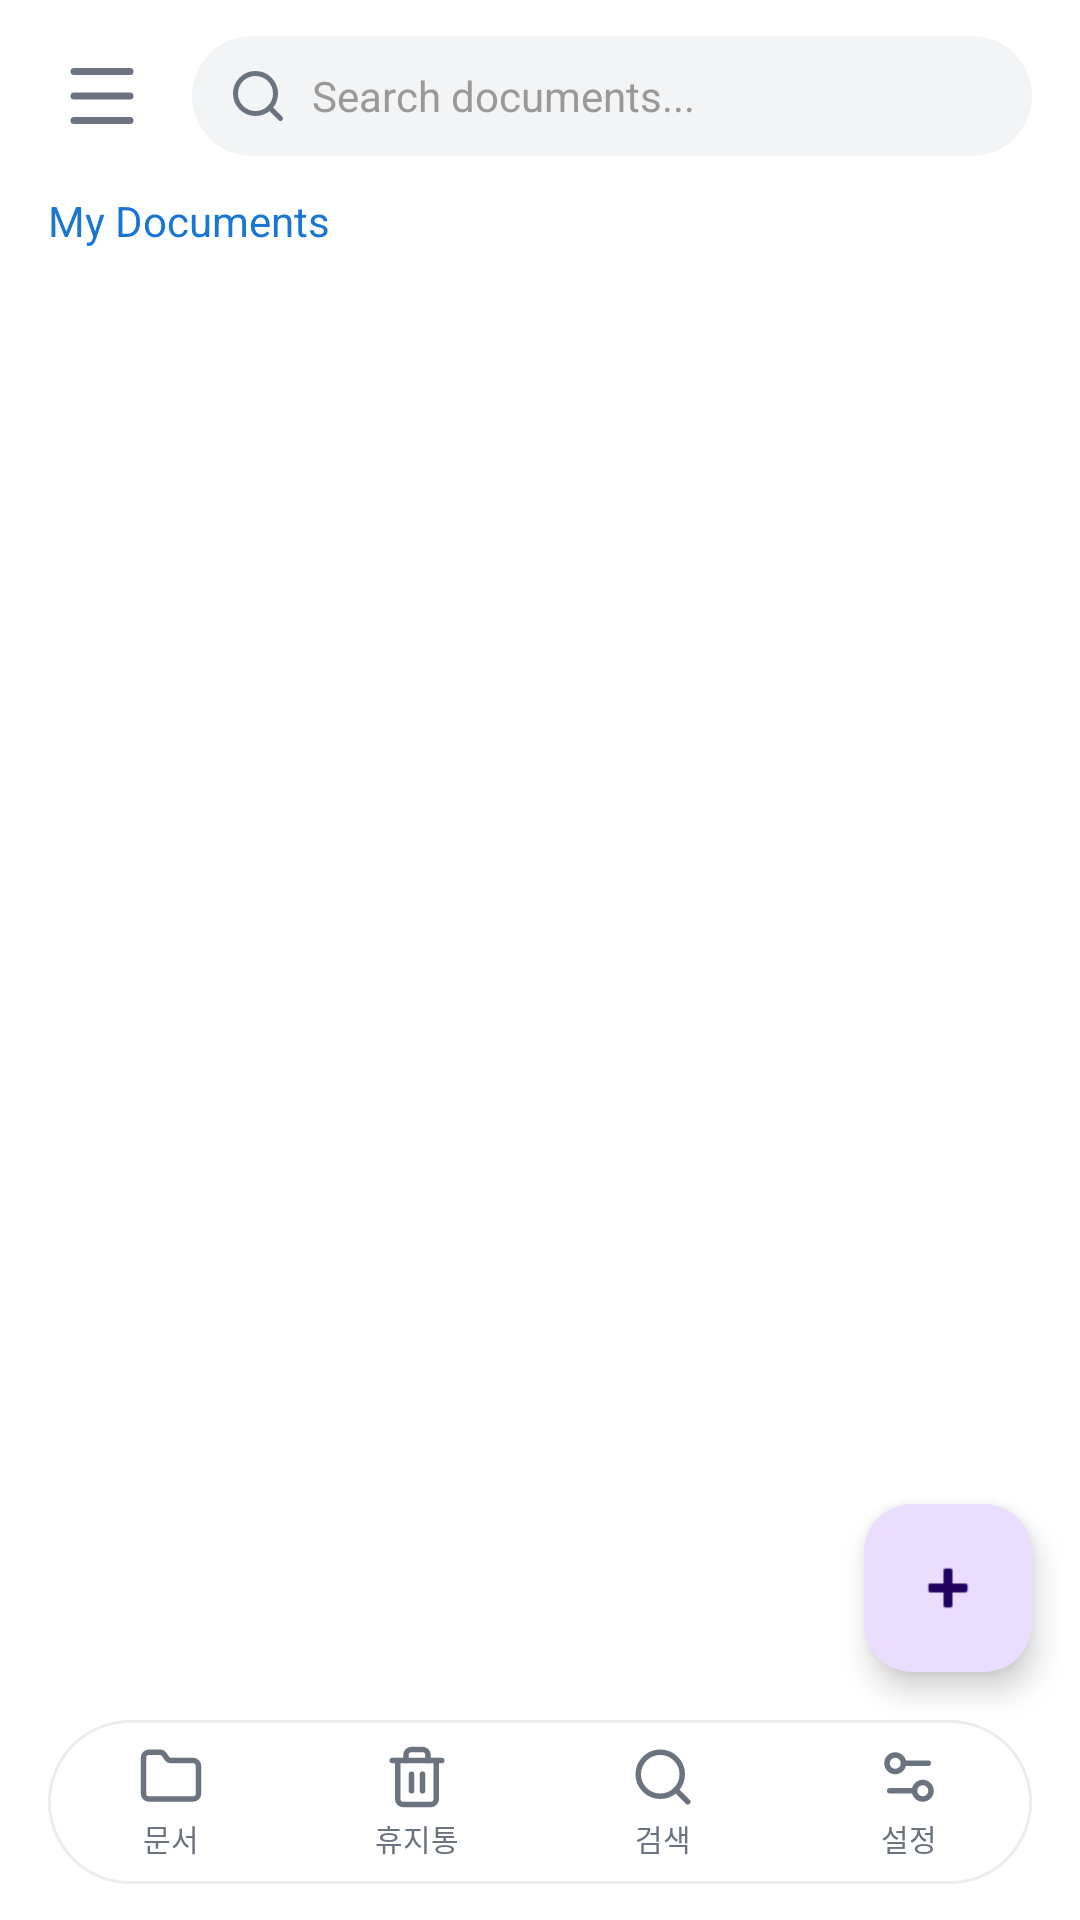

Icon bounding boxes for this 1080w x 1920h phone screenshot, format (x1, y1, x2, y2):
Menu: (70, 68, 134, 124)
